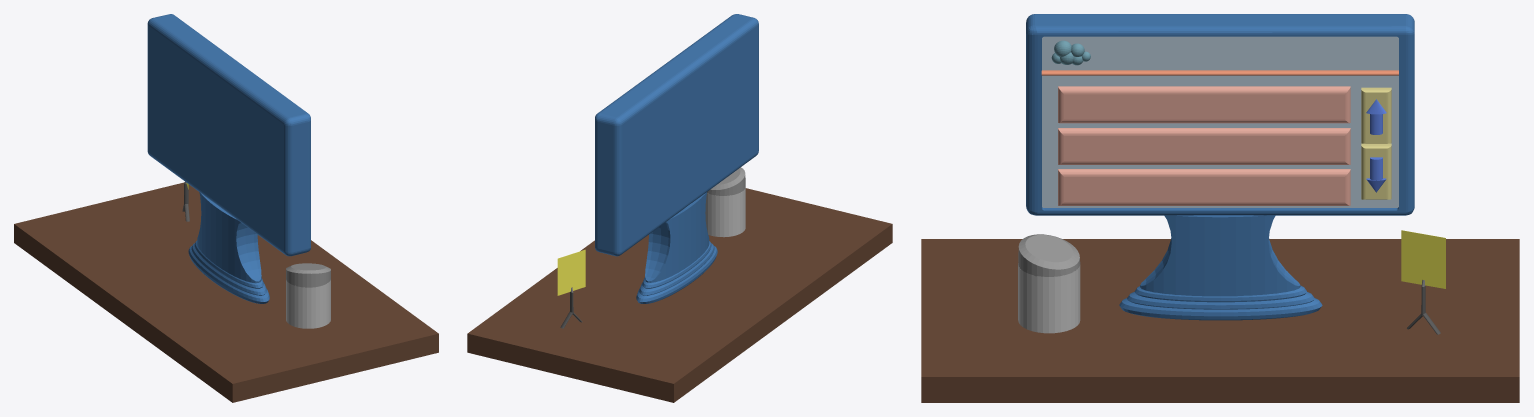
The model's file is room.4bf55af1.glb.
The picture shows the model from 3 angles, left to right: view 1: azimuth 30°, elevation 25°; view 2: azimuth 150°, elevation 25°; view 3: azimuth 270°, elevation 25°; orthographic projection. The views are drawn at different scales.
Parts seen in each view (by area): view 1: Cube, 큐브.001, 실린더.006, 실린더, 실린더.001, Torus, Torus.001, Torus.002; view 2: Cube, 큐브.001, 실린더.006, 실린더, 큐브, Torus, 실린더.001, Torus.001, Torus.002; view 3: Cube, 큐브.007, 큐브.001, 큐브.003, 큐브.002, 큐브.006, 실린더.006, 실린더, Torus, 큐브, 실린더.001, 실린더.007 (+4 smaller).
Part boxes in pixels (x1,y1,x2,y2): Cube: (14, 182, 438, 402); 큐브.001: (147, 14, 310, 256); 실린더.006: (197, 192, 261, 283); 실린더: (286, 280, 330, 328); 실린더.001: (286, 263, 330, 287); Torus: (188, 246, 269, 303); Torus.001: (191, 243, 266, 295); Torus.002: (194, 240, 263, 288); Cube: (467, 188, 892, 402); 큐브.001: (595, 14, 758, 256); 실린더.006: (645, 192, 709, 282); 실린더: (705, 188, 745, 237); 큐브: (557, 249, 585, 295); Torus: (636, 246, 717, 303); 실린더.001: (707, 167, 745, 195); Torus.001: (639, 243, 714, 295); Torus.002: (642, 241, 711, 288); Cube: (921, 239, 1519, 402); 큐브.007: (1042, 36, 1398, 207); 큐브.001: (1026, 14, 1414, 215); 큐브.003: (1058, 86, 1350, 123); 큐브.002: (1058, 128, 1350, 164); 큐브.006: (1058, 169, 1350, 205); 실린더.006: (1140, 208, 1300, 296); 실린더: (1018, 264, 1080, 333); Torus: (1119, 298, 1322, 320); 큐브: (1401, 230, 1445, 288); 실린더.001: (1018, 234, 1080, 276); 실린더.007: (1041, 70, 1398, 75).
Bounding box in the file's own units: 15.44 × 16.52 × 28.34.
